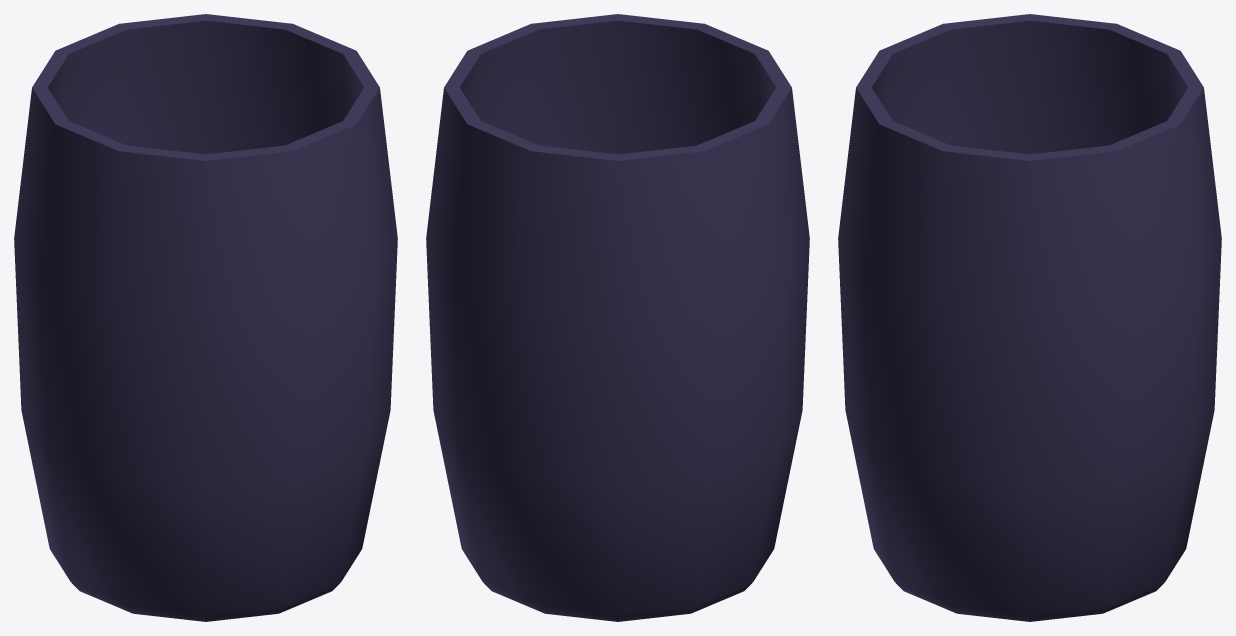
Rendered from glass1.fbx.
The picture shows the model from 3 angles, left to right: view 1: azimuth 30°, elevation 25°; view 2: azimuth 150°, elevation 25°; view 3: azimuth 270°, elevation 25°; orthographic projection.
Parts seen in each view (by area): view 1: glass1; view 2: glass1; view 3: glass1.
Boxes of the visible parts, x1,y1,x2,y2 form: glass1: (14,14,397,621); glass1: (426,14,809,621); glass1: (838,14,1221,621).
Bounding box in the file's own units: 0.0882 × 0.12 × 0.0882.
